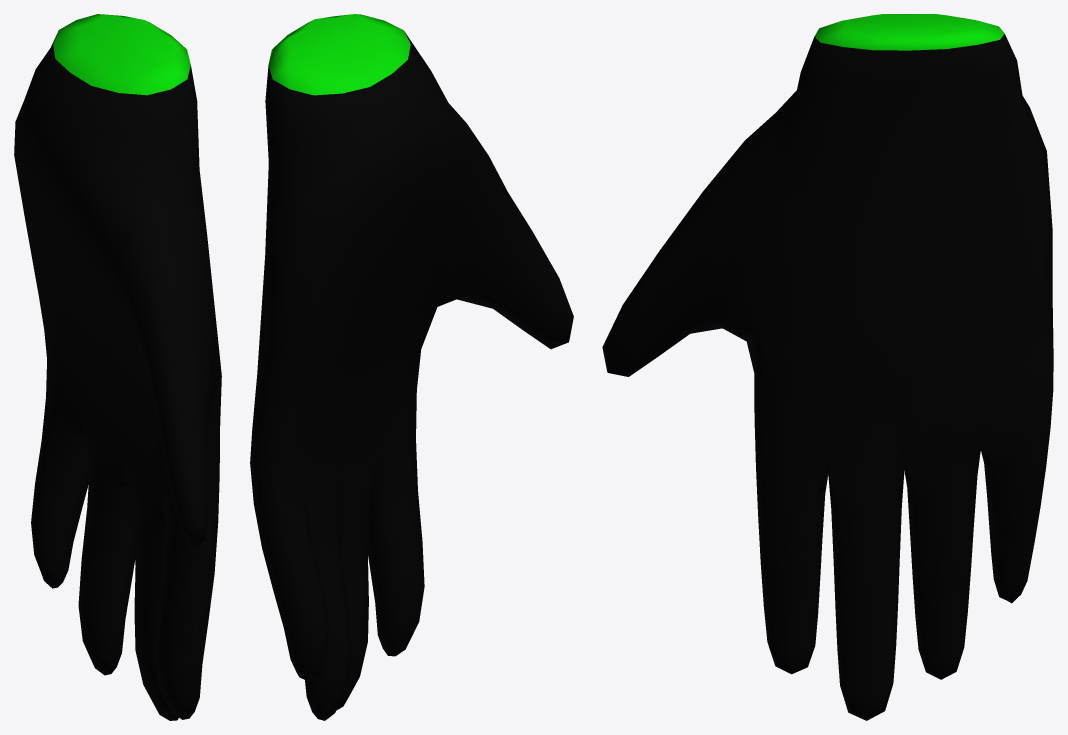
File: Hand.fbx
3 renders of one model, left to right at view 1: azimuth 30°, elevation 25°; view 2: azimuth 150°, elevation 25°; view 3: azimuth 270°, elevation 25°, orthographic. The views are drawn at different scales.
Visible parts, largest first — view 1: Hand; view 2: Hand; view 3: Hand.
Part boxes in pixels (bbox=[...]): Hand: bbox=[14, 14, 221, 720]; Hand: bbox=[250, 14, 573, 720]; Hand: bbox=[602, 14, 1053, 720].
Bounding box in the file's own units: 0.1931 × 0.9348 × 0.5537.
